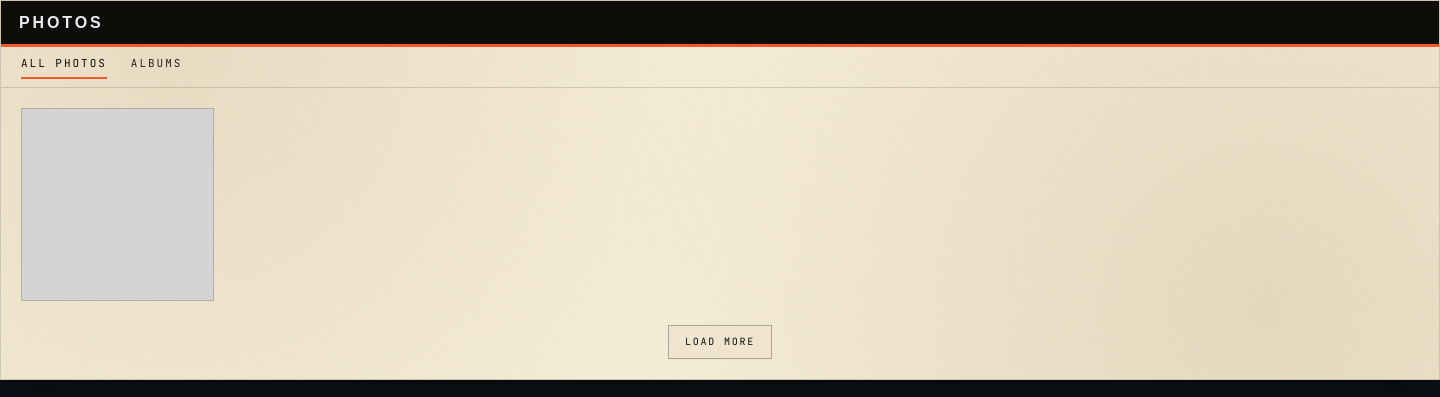
AlbumsGrid — failed REFRESH of a loaded shelf › suppresses the empty state when a refresh fails on an empty shelf
Click the tab "ALBUMS".
click(157, 67)  # box [131,55,182,79]
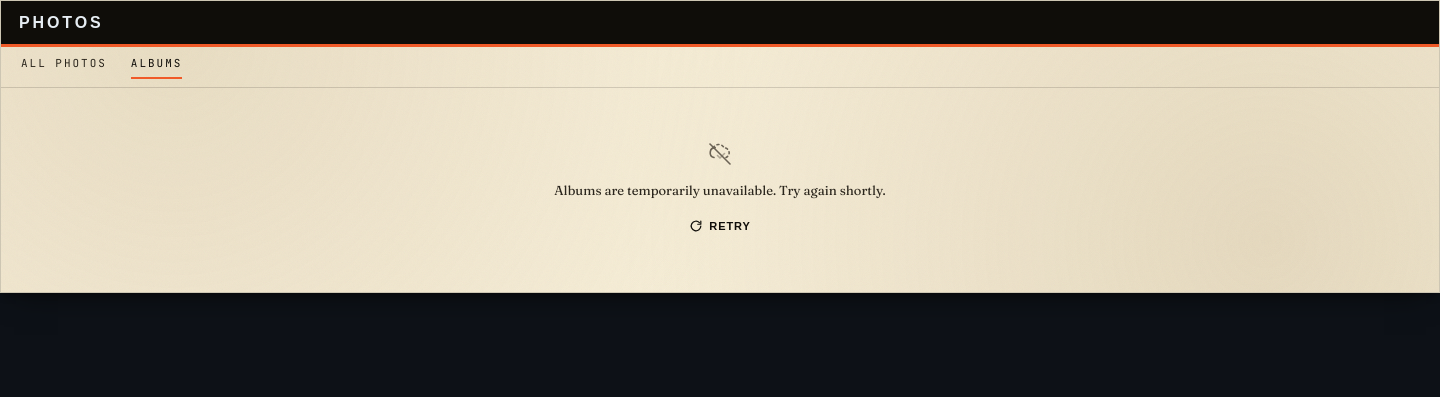
Result: the message "Albums are temporarily unavailable. Try again shortly." is shown at [554,180,886,201]
